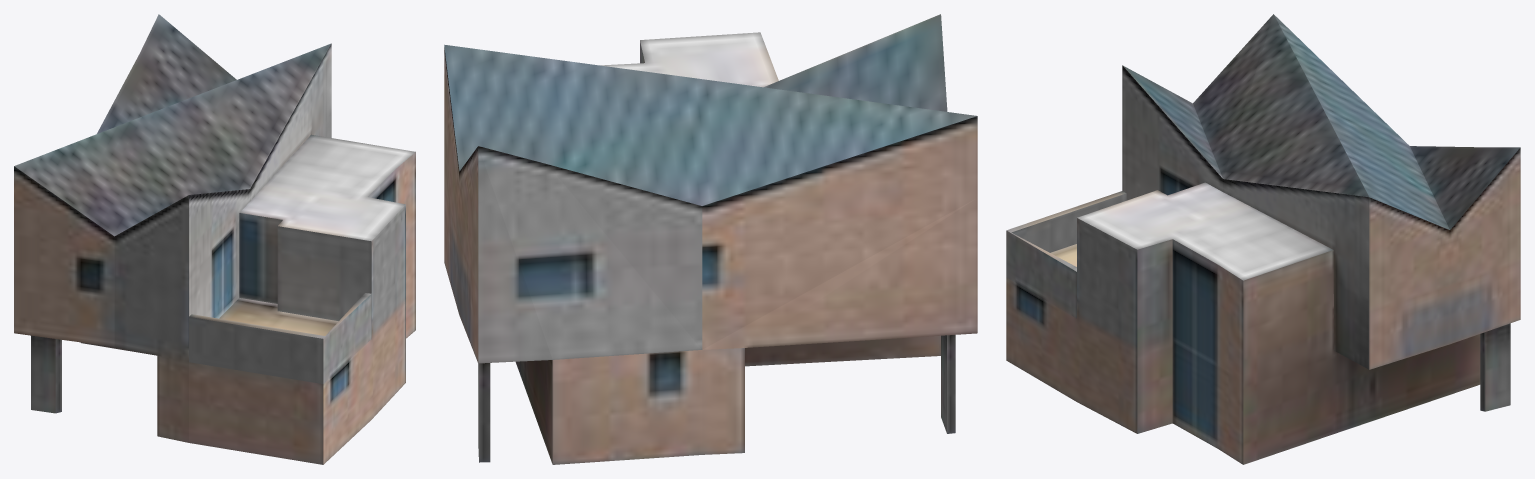
3 renders of one model, left to right at view 1: azimuth 30°, elevation 25°; view 2: azimuth 150°, elevation 25°; view 3: azimuth 270°, elevation 25°, orthographic. The views are drawn at different scales.
Parts seen in each view (by area): view 1: MainBuilding; view 2: MainBuilding; view 3: MainBuilding.
Boxes of the visible parts, x1,y1,x2,y2 form: MainBuilding: [14, 14, 415, 464]; MainBuilding: [444, 14, 977, 464]; MainBuilding: [1006, 14, 1520, 464].
Bounding box in the file's own units: 1.43 × 0.875 × 1.59.
Materials: 1 (1 with a texture image).
